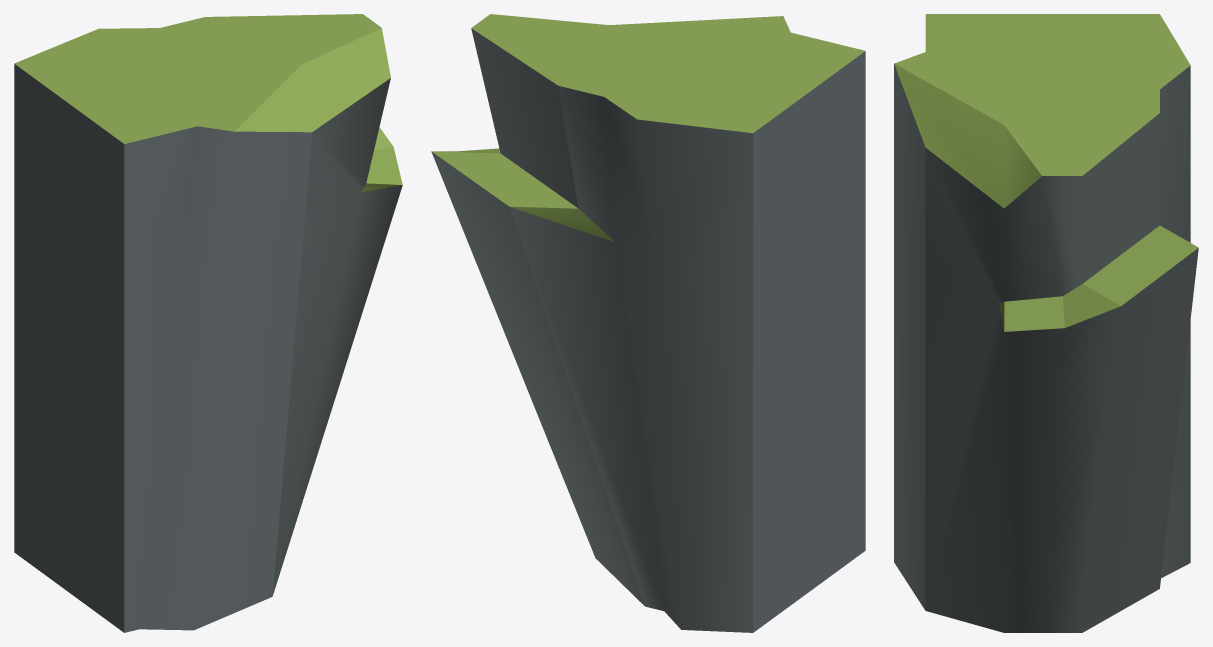
File: rock02.fbx
3 renders of one model, left to right at view 1: azimuth 30°, elevation 25°; view 2: azimuth 150°, elevation 25°; view 3: azimuth 270°, elevation 25°, orthographic. The views are drawn at different scales.
Parts seen in each view (by area): view 1: pCube7; view 2: pCube7; view 3: pCube7.
Part boxes in pixels (left/top/right/bottom): pCube7: left=14, top=14, right=402, bottom=632; pCube7: left=431, top=14, right=865, bottom=632; pCube7: left=894, top=14, right=1198, bottom=632.
Bounding box in the file's own units: 34.61 × 48.3 × 25.65.
